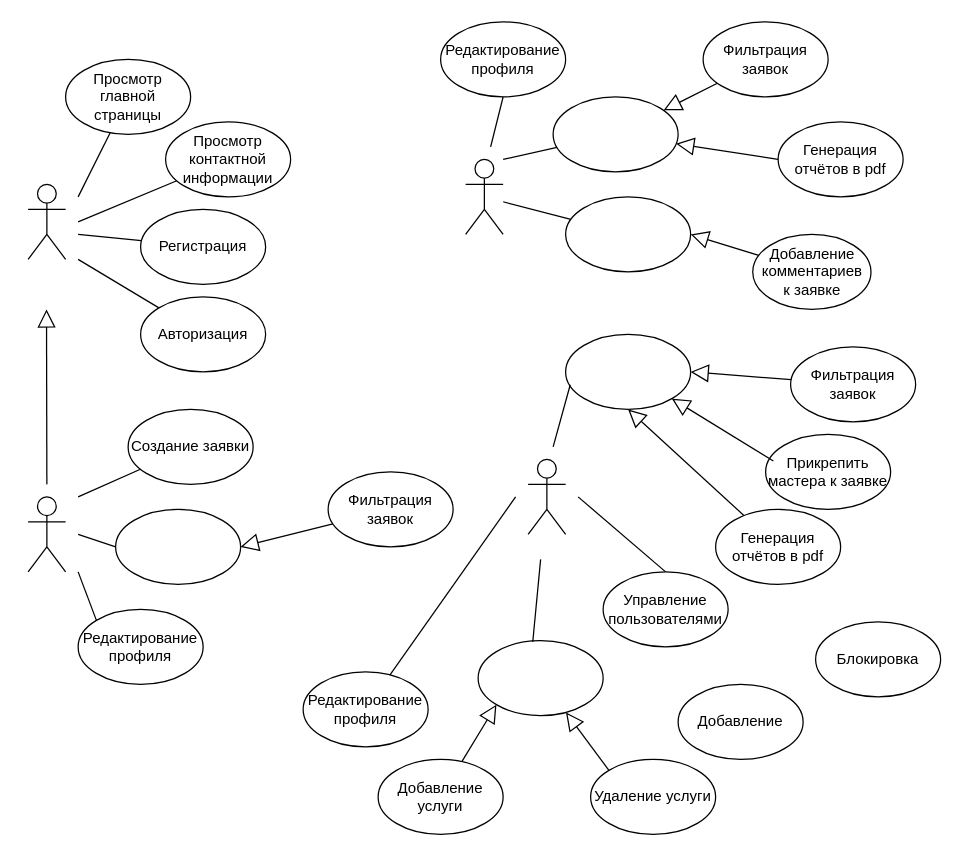
Image size: 963x856. Some labels were removed from this diagram. Each missing label, with the box of its shape:
Администратор: (527, 458, 566, 534)
Гость: (27, 183, 66, 259)
Клиент: (27, 496, 66, 572)
Мастер: (464, 158, 503, 234)
Обновление статуса заявки: (564, 196, 691, 272)
Просмотр всех заявок: (564, 333, 691, 409)
Просмотр заявок: (114, 508, 241, 584)
Просмотр назначенных заявок: (552, 96, 678, 172)
Управление списком услуг: (477, 639, 603, 716)
